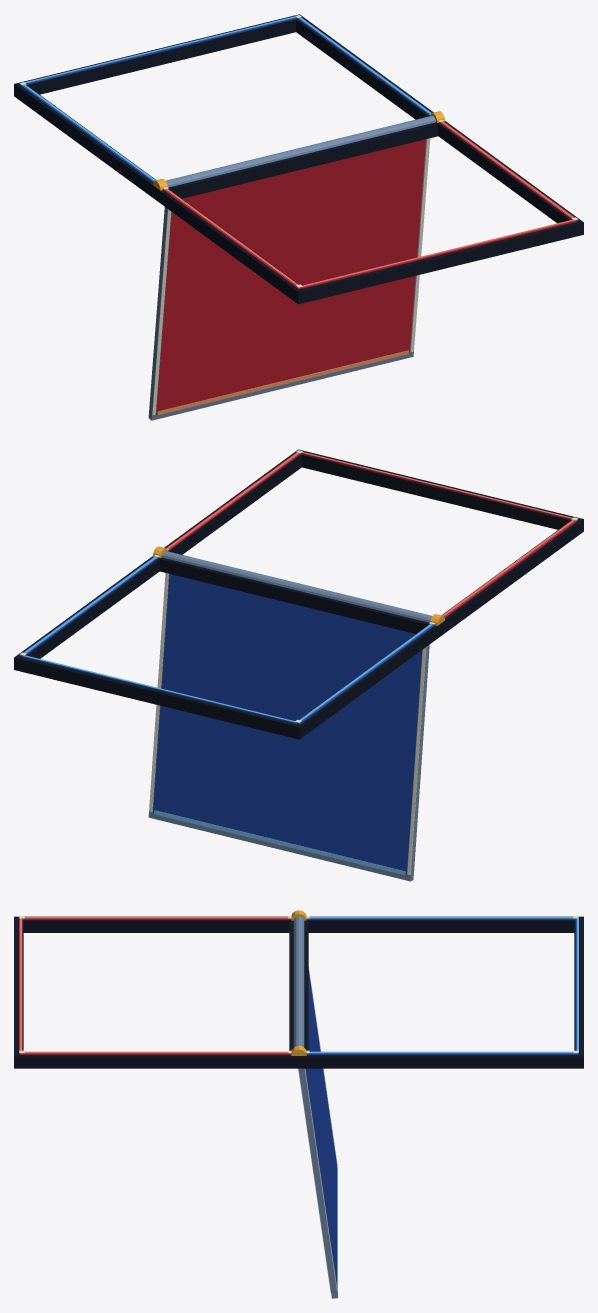
Rendered from jump_flip_pair_flip_11.obj.
3 views of the same model, one above another, from view 1: azimuth 30°, elevation 25°; view 2: azimuth 150°, elevation 25°; view 3: azimuth 270°, elevation 25° (orthographic).
Parts seen in each view (by area): view 1: red_bottom, red_end_shell, red_side_shell, blue_side_shell, blue_end_shell, reversible_leaf, hinge_axle, red_side_trim, red_border, blue_border, red_rim_light, blue_rim_light (+1 smaller); view 2: blue_top, blue_end_shell, blue_side_shell, red_side_shell, red_end_shell, reversible_leaf, hinge_axle, blue_side_trim, blue_rim_light, red_rim_light, blue_border, red_border (+1 smaller); view 3: blue_side_shell, red_side_shell, blue_top, blue_end_shell, red_rim_light, red_end_shell, blue_rim_light, hinge_axle, reversible_leaf, blue_border, red_border, blue_side_trim.
Boxes of the visible parts, <box> form: red_bottom: <box>156,139,426,415</box>; red_end_shell: <box>156,121,583,303</box>; red_side_shell: <box>156,122,583,304</box>; blue_side_shell: <box>14,14,433,196</box>; blue_end_shell: <box>14,15,302,197</box>; reversible_leaf: <box>148,139,426,420</box>; hinge_axle: <box>166,115,435,187</box>; red_side_trim: <box>152,138,430,415</box>; red_border: <box>162,121,578,289</box>; blue_border: <box>19,17,431,182</box>; red_rim_light: <box>165,121,573,286</box>; blue_rim_light: <box>23,16,431,181</box>; blue_top: <box>153,574,422,875</box>; blue_end_shell: <box>14,556,441,738</box>; blue_side_shell: <box>14,557,441,739</box>; red_side_shell: <box>164,449,583,635</box>; red_end_shell: <box>295,450,583,632</box>; reversible_leaf: <box>148,573,429,881</box>; hinge_axle: <box>162,551,431,622</box>; blue_side_trim: <box>149,573,426,875</box>; blue_rim_light: <box>23,557,432,722</box>; red_rim_light: <box>166,452,574,616</box>; blue_border: <box>19,556,435,724</box>; red_border: <box>166,452,578,617</box>; blue_side_shell: <box>299,916,583,1068</box>; red_side_shell: <box>14,916,298,1068</box>; blue_top: <box>305,971,336,1285</box>; blue_end_shell: <box>299,916,583,1068</box>; red_rim_light: <box>20,917,288,1053</box>; red_end_shell: <box>14,916,298,1068</box>; blue_rim_light: <box>309,917,578,1053</box>; hinge_axle: <box>293,916,304,1047</box>; reversible_leaf: <box>298,1068,337,1298</box>; blue_border: <box>306,918,578,1054</box>; red_border: <box>19,918,291,1054</box>; blue_side_trim: <box>304,966,337,1291</box>.
Bounding box in the file's own units: 11.6 × 9.87 × 20.
